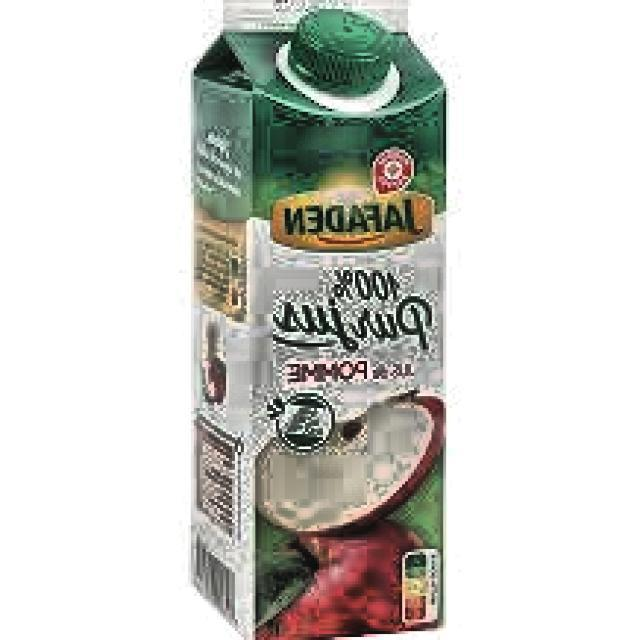cardboard: (188, 0, 452, 640)
